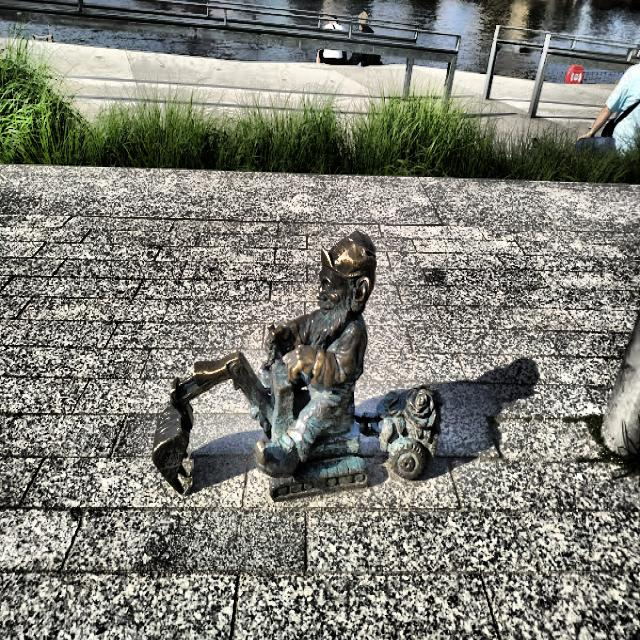Koparkus: (152, 232, 442, 500)
